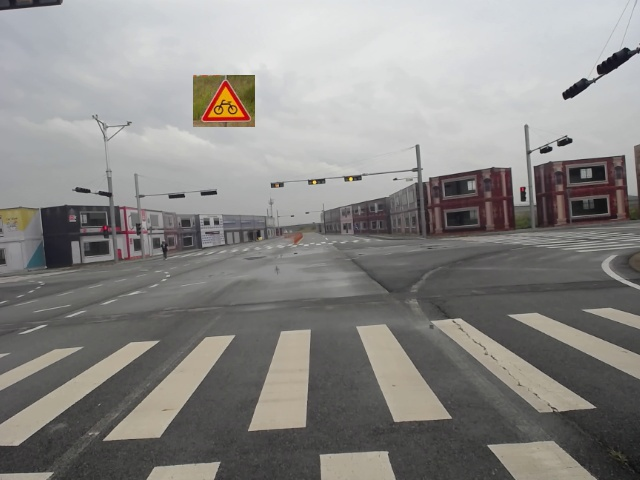orange_4: (307, 178, 328, 186), (342, 175, 363, 182)
